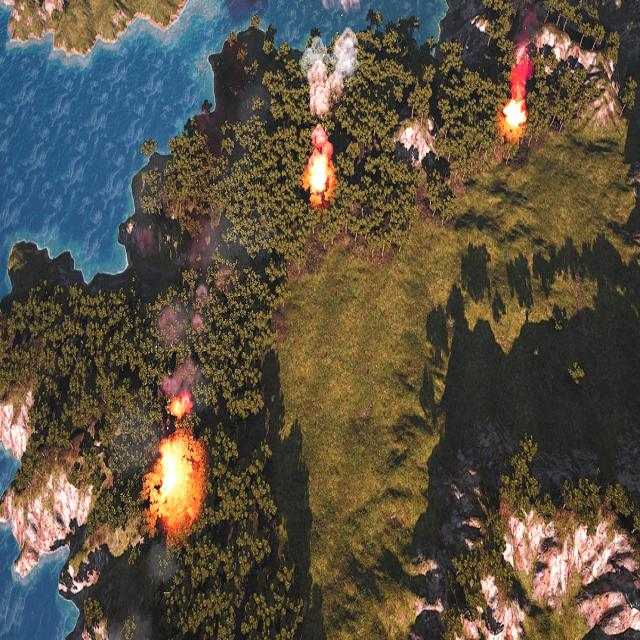fire: (149, 390, 203, 528), (305, 144, 335, 198), (504, 78, 529, 132)
smoke: (156, 220, 228, 390), (301, 28, 361, 126), (510, 0, 544, 92)
